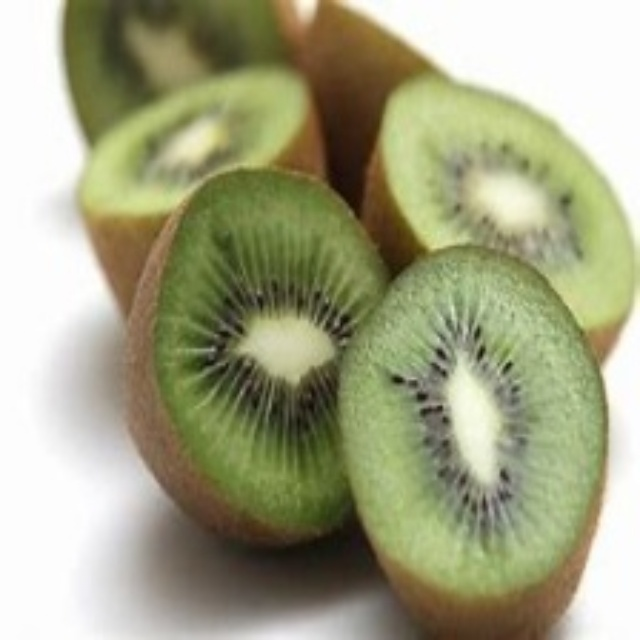kiwi: (310, 5, 634, 360), (57, 2, 433, 306), (123, 168, 399, 555), (340, 246, 600, 632)
